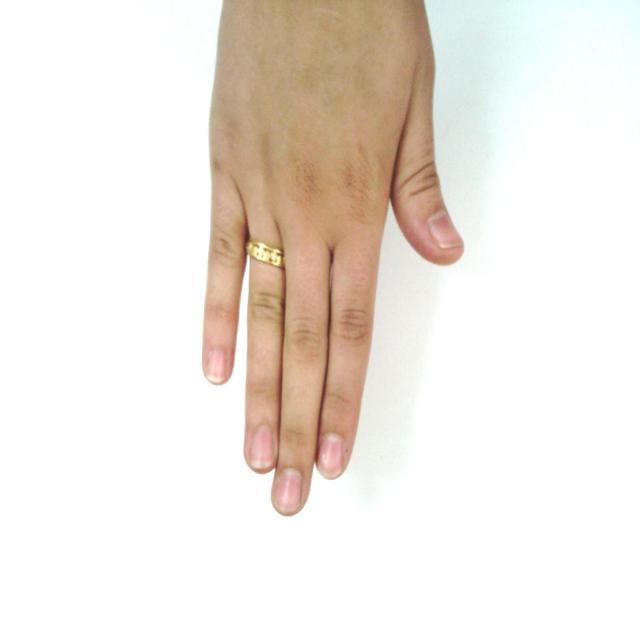Fingernail: (274, 468, 302, 512), (429, 212, 461, 247), (250, 426, 275, 467), (320, 435, 344, 477), (206, 350, 226, 382)
